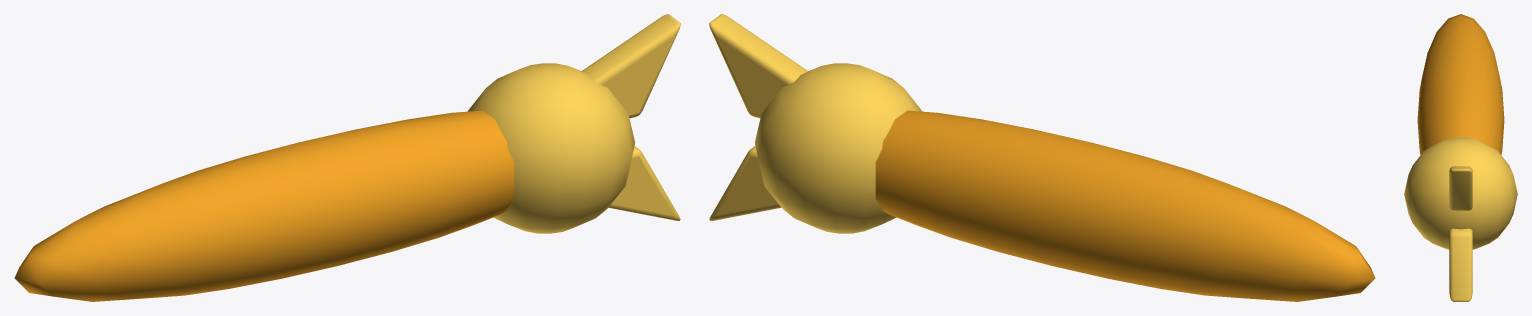
The model's file is bee_bolt.glb.
The picture shows the model from 3 angles, left to right: view 1: azimuth 30°, elevation 25°; view 2: azimuth 150°, elevation 25°; view 3: azimuth 270°, elevation 25°; orthographic projection. The views are drawn at different scales.
Parts seen in each view (by area): view 1: BeeProjectileGeometry; view 2: BeeProjectileGeometry; view 3: BeeProjectileGeometry.
Part boxes in pixels (bbox=[...]): BeeProjectileGeometry: bbox=[14, 14, 680, 301]; BeeProjectileGeometry: bbox=[709, 14, 1375, 301]; BeeProjectileGeometry: bbox=[1404, 14, 1517, 301].
Bounding box in the file's own units: 0.6081 × 0.1747 × 0.136.
